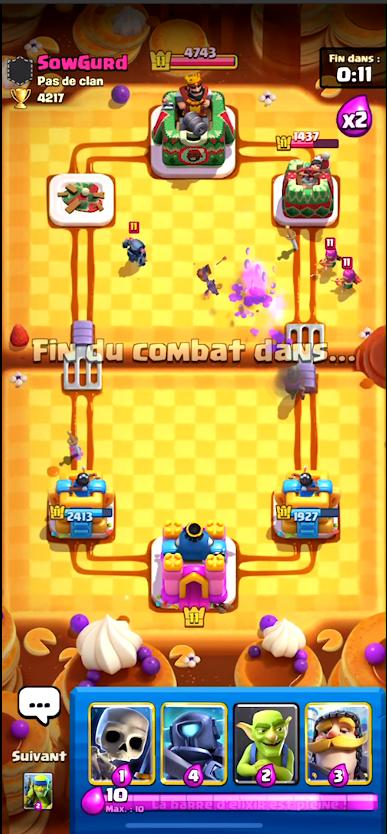archere: (338, 257, 362, 294), (323, 235, 342, 272)
bat: (197, 262, 212, 282), (206, 279, 221, 299)
mini_PEKKA: (124, 221, 150, 270)
mousquetaire: (287, 368, 306, 406)
